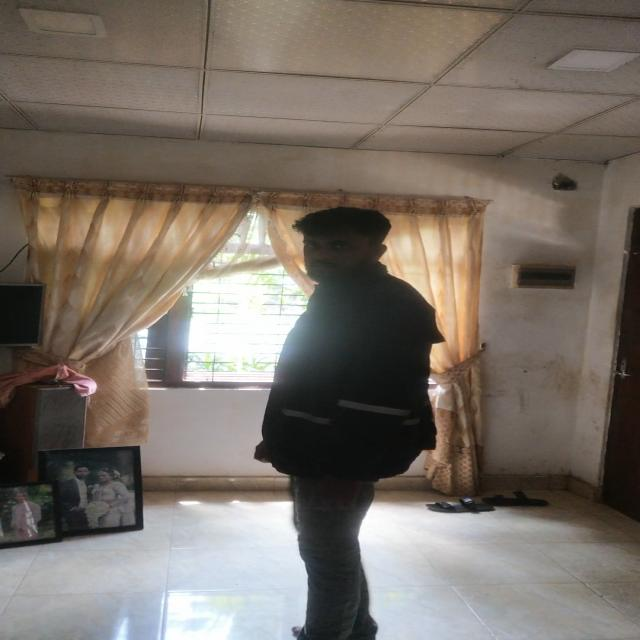Jacket_Wearer: (249, 268, 453, 477)
Person: (246, 205, 449, 640)
